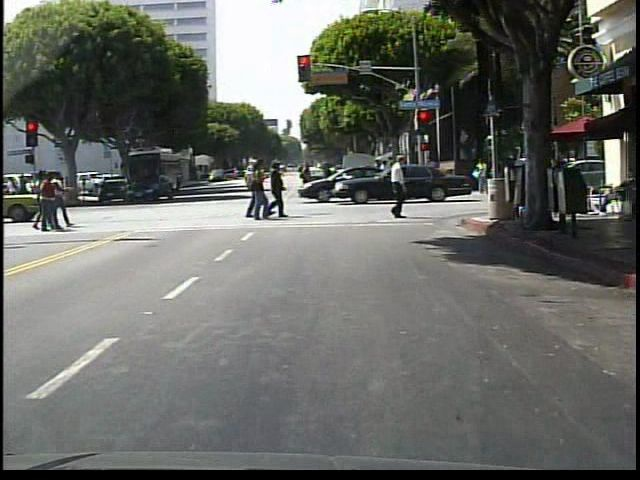person: (376, 151, 419, 226)
